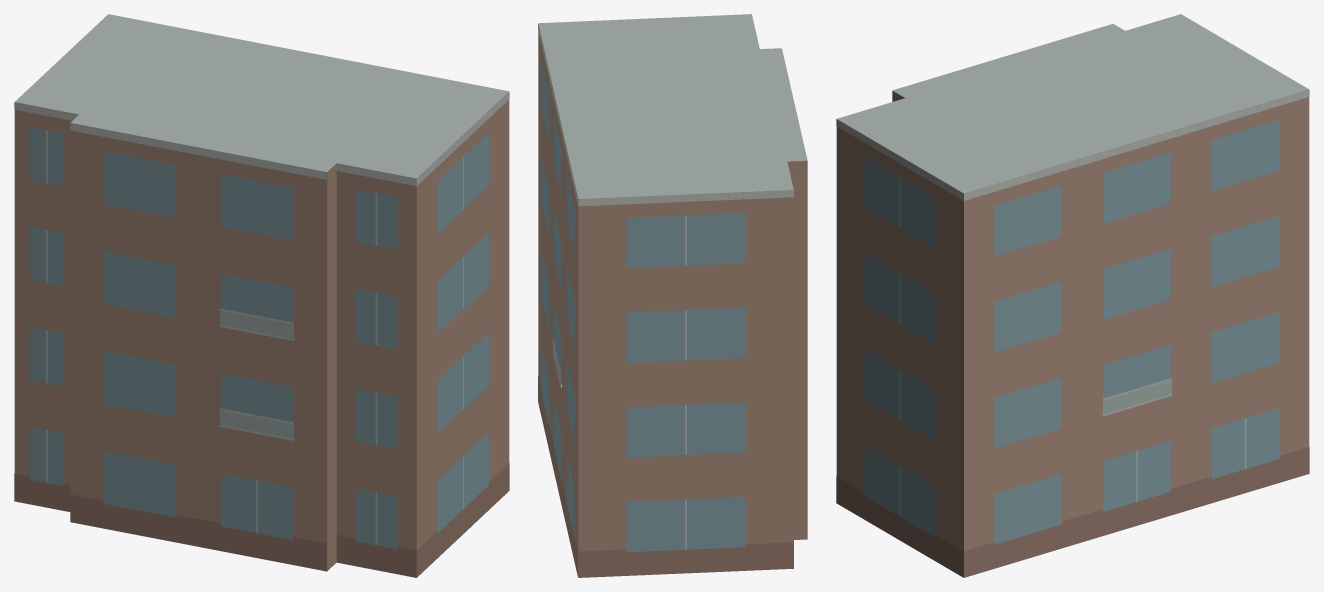
Rendered from survey-upis-32802056.glb.
3 views of the same model, side by side, from view 1: azimuth 30°, elevation 25°; view 2: azimuth 150°, elevation 25°; view 3: azimuth 270°, elevation 25° (orthographic). The views are drawn at different scales.
Visible parts, largest first — view 1: survey-upis-32802056.tmp; view 2: survey-upis-32802056.tmp; view 3: survey-upis-32802056.tmp.
Part boxes in pixels (box(x1,y1,x2,y2)): survey-upis-32802056.tmp: box(14, 14, 509, 577); survey-upis-32802056.tmp: box(538, 14, 807, 577); survey-upis-32802056.tmp: box(836, 14, 1309, 577).
Size of the model in its own units: 12.63 by 12.6 by 14.06.
